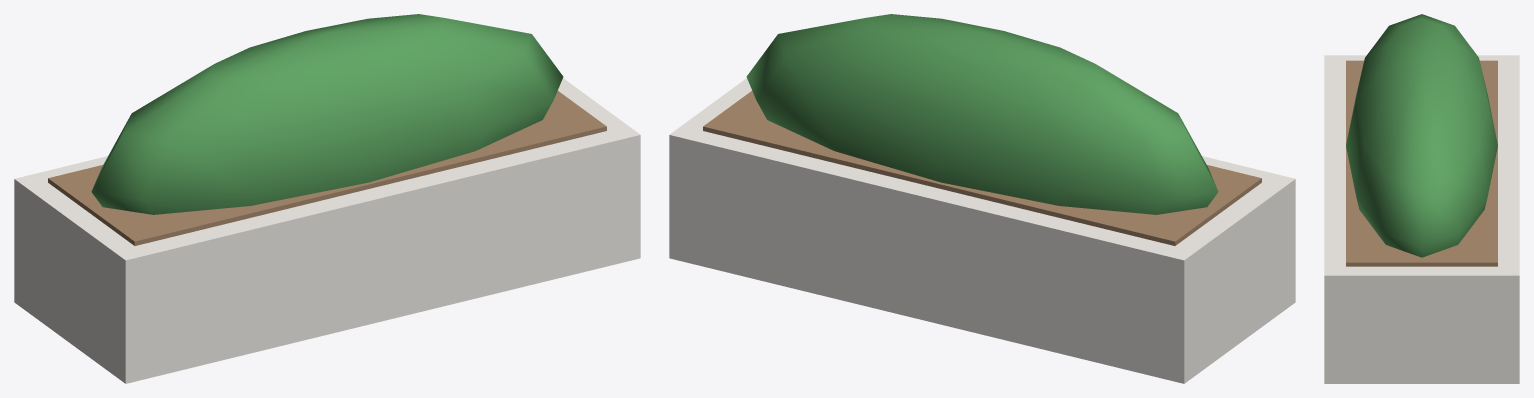
The model's file is monatium_planter.glb.
3 views of the same model, side by side, from view 1: azimuth 30°, elevation 25°; view 2: azimuth 150°, elevation 25°; view 3: azimuth 270°, elevation 25° (orthographic). The views are drawn at different scales.
Visible parts, largest first — view 1: monatium_planter_white_detail, monatium_planter_hedge, monatium_planter_soil_detail; view 2: monatium_planter_white_detail, monatium_planter_hedge, monatium_planter_soil_detail; view 3: monatium_planter_white_detail, monatium_planter_hedge, monatium_planter_soil_detail.
Part boxes in pixels (x1=…): monatium_planter_white_detail: x1=14, y1=78, x2=640, y2=383; monatium_planter_hedge: x1=91, y1=14, x2=563, y2=214; monatium_planter_soil_detail: x1=48, y1=91, x2=606, y2=245; monatium_planter_white_detail: x1=669, y1=78, x2=1295, y2=383; monatium_planter_hedge: x1=746, y1=14, x2=1218, y2=214; monatium_planter_soil_detail: x1=703, y1=91, x2=1261, y2=245; monatium_planter_white_detail: x1=1324, y1=55, x2=1519, y2=383; monatium_planter_hedge: x1=1346, y1=14, x2=1497, y2=257; monatium_planter_soil_detail: x1=1346, y1=60, x2=1497, y2=266.
Size of the model in its own units: 2.4 by 1.1 by 0.9.
